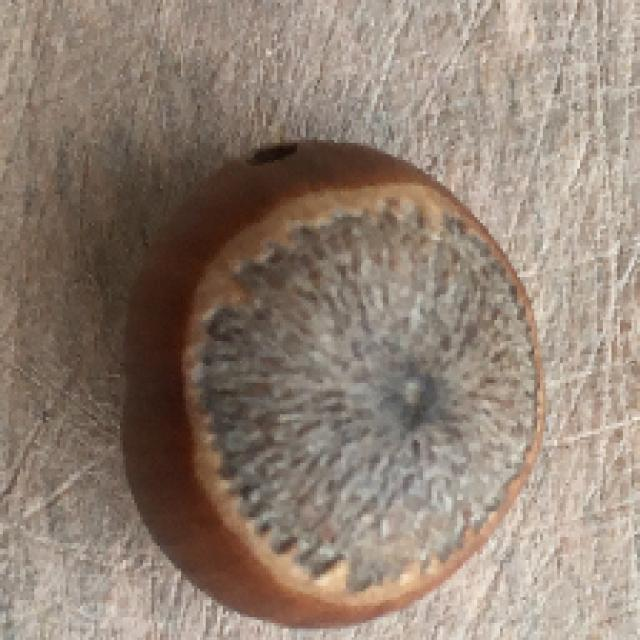DamagedHazelnut: (119, 139, 546, 629)
